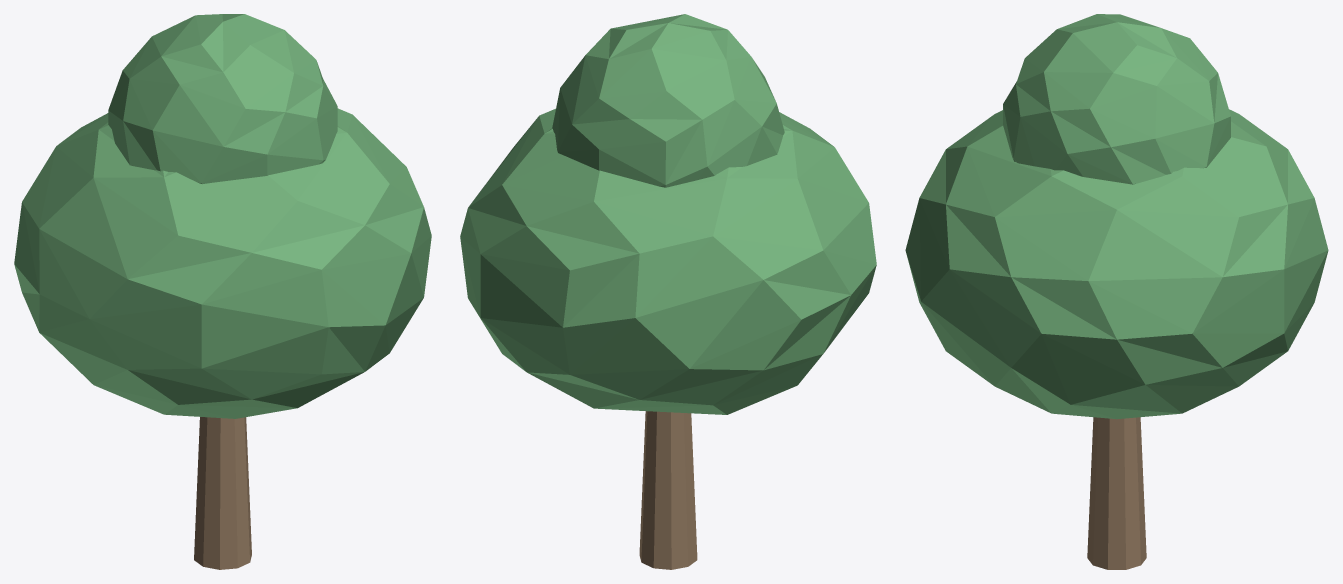
Rendered from prop_tree.glb.
3 renders of one model, left to right at view 1: azimuth 30°, elevation 25°; view 2: azimuth 150°, elevation 25°; view 3: azimuth 270°, elevation 25°, orthographic.
Visible parts, largest first — view 1: prop_tree; view 2: prop_tree; view 3: prop_tree.
Part boxes in pixels (<box>): prop_tree: <box>14,14,431,569</box>; prop_tree: <box>460,14,876,569</box>; prop_tree: <box>905,14,1328,569</box>.
Bounding box in the file's own units: 5.98 × 8.36 × 5.98.
